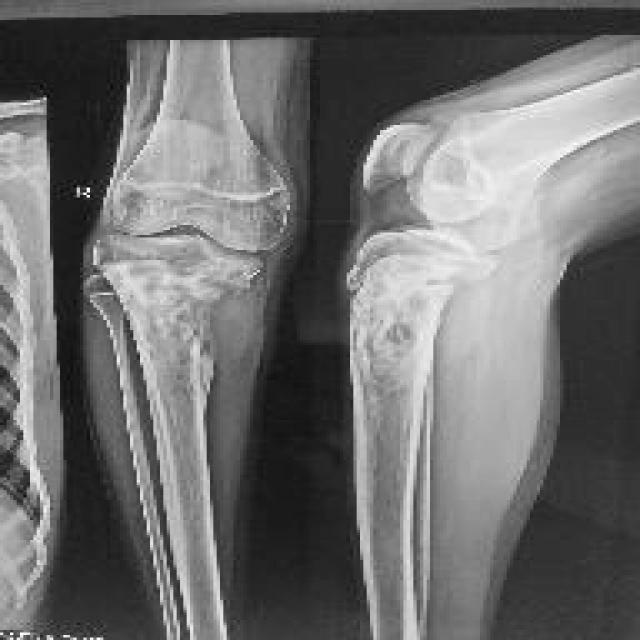bone-cancer: (102, 236, 260, 395), (356, 248, 487, 421)
